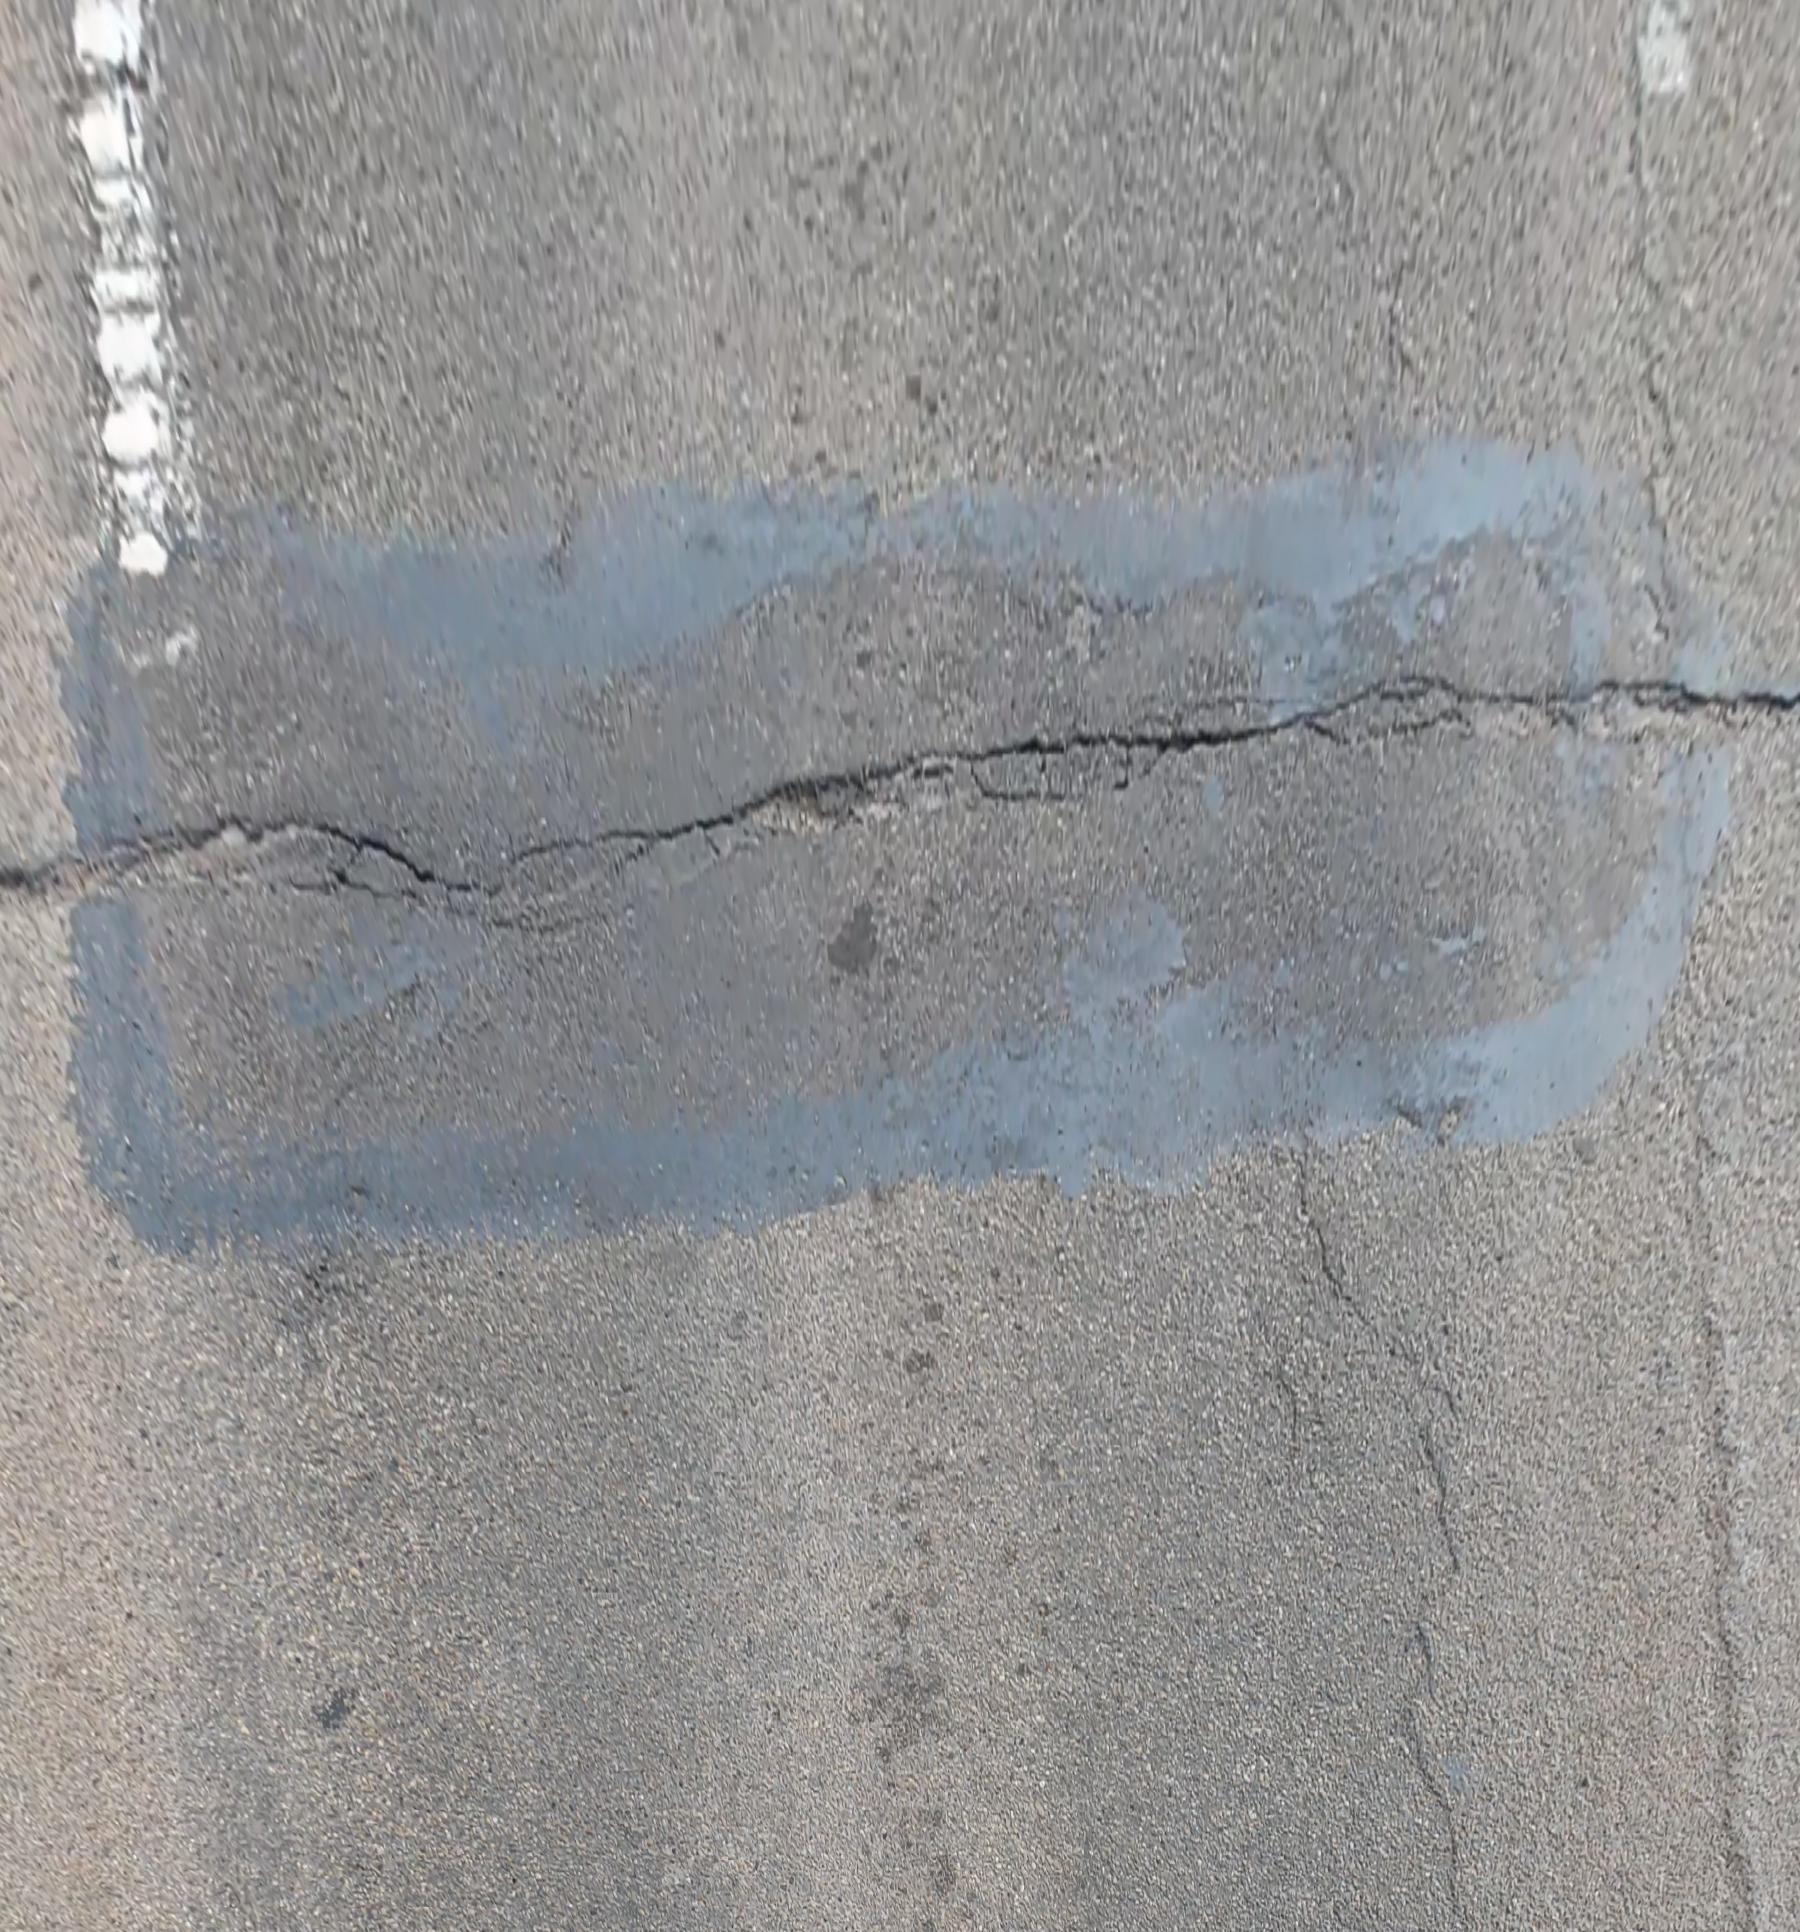pothole: (743, 755, 966, 831)
pothole_patch_poor: (64, 442, 1727, 1245)
